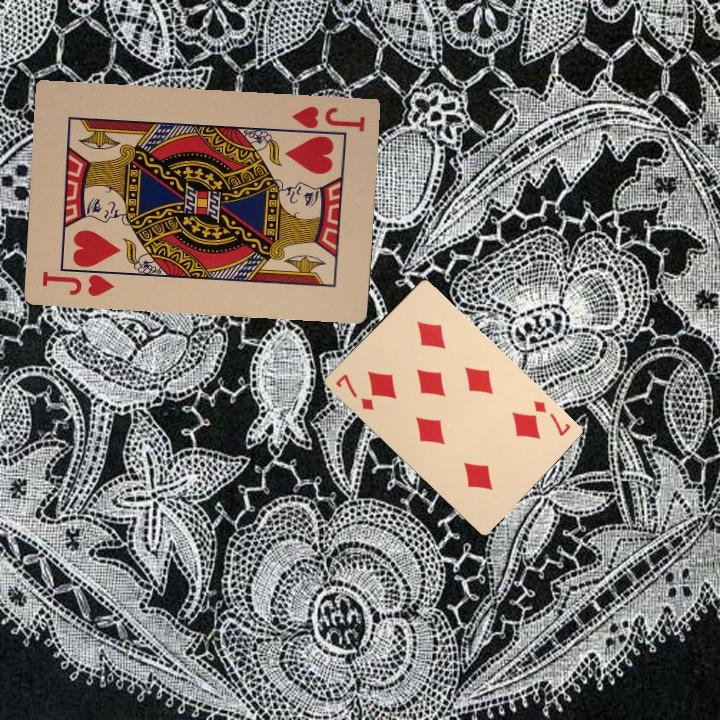7d: (331, 370, 377, 413), (529, 397, 573, 439)
Jh: (285, 102, 368, 140), (38, 262, 117, 299)
